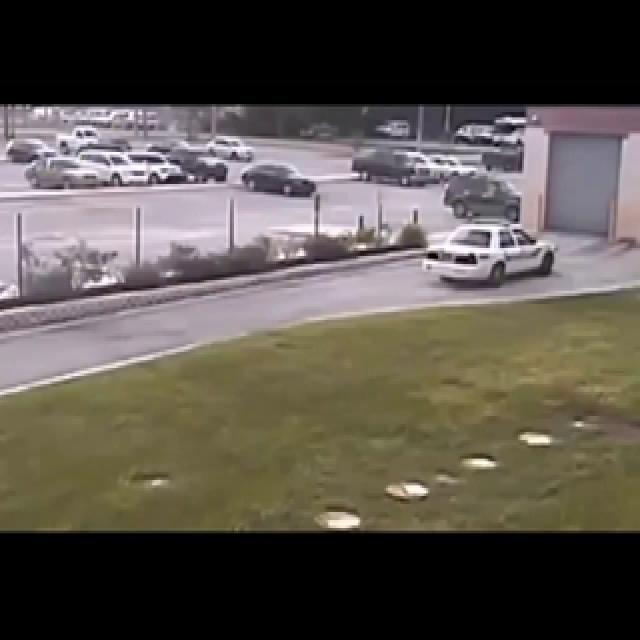arrest: (401, 140, 611, 341)
